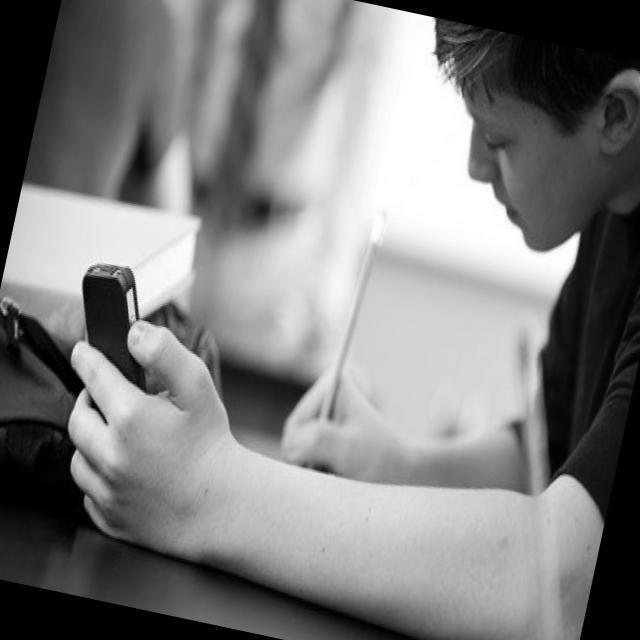phone: (61, 255, 172, 395)
